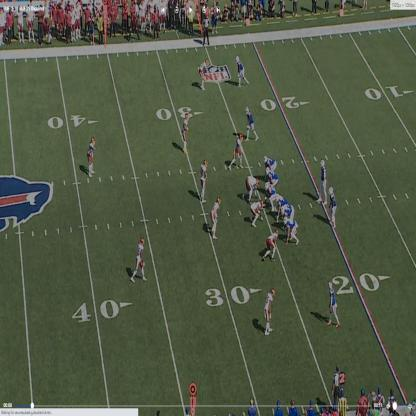CENTER: (264, 184, 274, 208)
DB: (134, 238, 145, 282), (264, 289, 274, 336), (181, 111, 191, 153), (87, 136, 95, 174), (198, 58, 208, 86)
LB: (210, 199, 220, 239), (199, 160, 207, 202)
QB: (328, 186, 337, 225)
SKILL: (327, 277, 336, 324), (245, 106, 256, 139), (236, 56, 248, 86), (320, 158, 328, 191), (264, 156, 280, 172)
